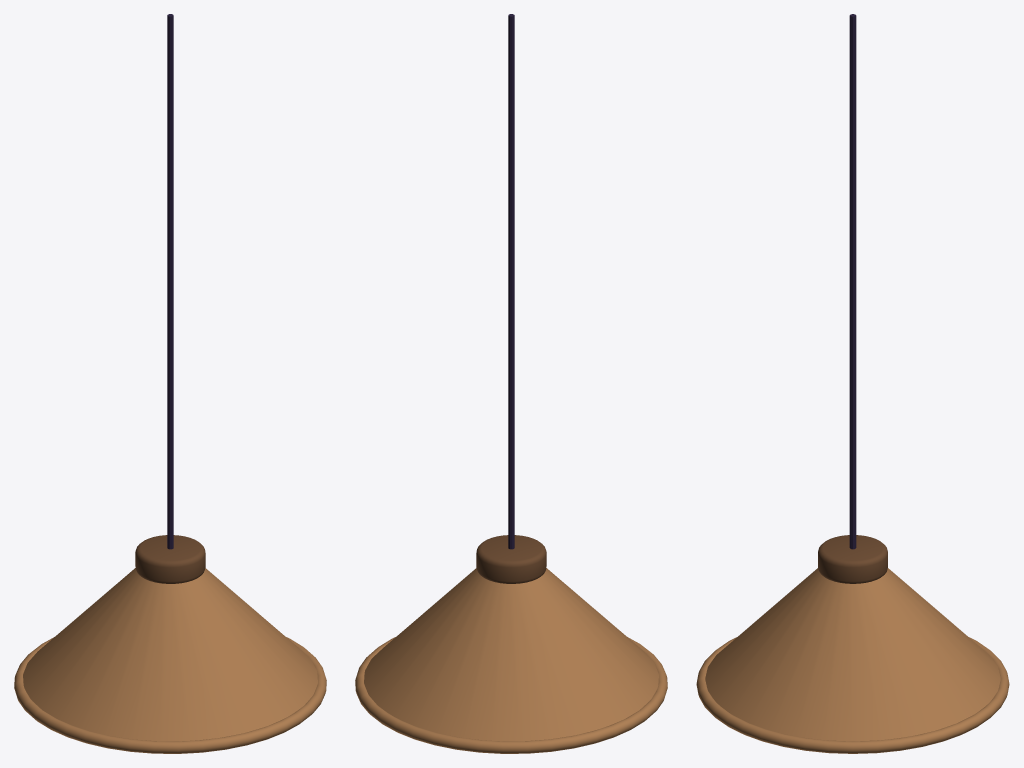
The model's file is pendant_lamp.glb.
3 renders of one model, left to right at view 1: azimuth 30°, elevation 25°; view 2: azimuth 150°, elevation 25°; view 3: azimuth 270°, elevation 25°, orthographic.
Parts seen in each view (by area): view 1: pendant_lamp_shade, pendant_lamp_shade_rim, pendant_lamp_cord, pendant_lamp_cap; view 2: pendant_lamp_shade, pendant_lamp_shade_rim, pendant_lamp_cord, pendant_lamp_cap; view 3: pendant_lamp_shade, pendant_lamp_shade_rim, pendant_lamp_cord, pendant_lamp_cap.
Part boxes in pixels (x1,y1,x2,y2): pendant_lamp_shade: (23,568,317,741); pendant_lamp_shade_rim: (14,637,326,753); pendant_lamp_cord: (167,14,173,549); pendant_lamp_cap: (135,535,205,583); pendant_lamp_shade: (364,568,658,741); pendant_lamp_shade_rim: (355,637,667,753); pendant_lamp_cord: (508,14,514,549); pendant_lamp_cap: (476,535,546,583); pendant_lamp_shade: (705,568,1000,741); pendant_lamp_shade_rim: (696,637,1009,753); pendant_lamp_cord: (849,14,856,549); pendant_lamp_cap: (818,535,887,583).
Bounding box in the file's own units: 0.49 × 1.17 × 0.49.
